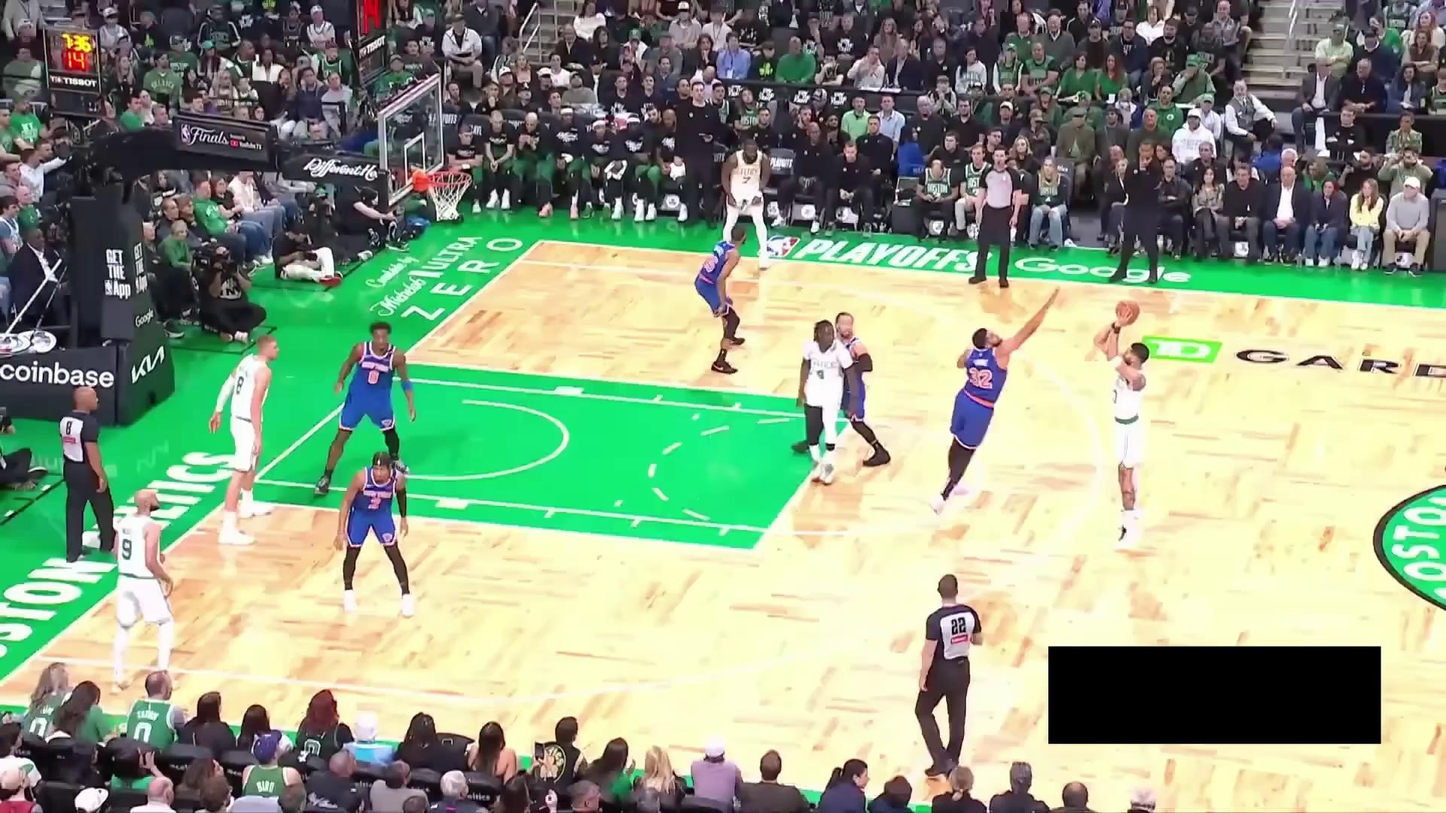ball: (1115, 298, 1141, 325)
number: (968, 368, 994, 389), (120, 537, 133, 561), (234, 374, 246, 396), (368, 494, 382, 510), (367, 369, 380, 385), (815, 367, 826, 382), (740, 174, 752, 186)
player: (313, 320, 416, 498), (208, 332, 279, 547), (108, 486, 180, 696), (800, 310, 891, 473), (332, 449, 416, 619), (792, 318, 859, 486), (694, 223, 750, 375), (719, 136, 775, 271)
player-jump-shot: (1089, 298, 1153, 553)
player-shot-block: (926, 283, 1067, 518)
referee: (914, 573, 983, 781), (57, 385, 117, 562), (967, 145, 1023, 289)
rim: (426, 169, 473, 187)
